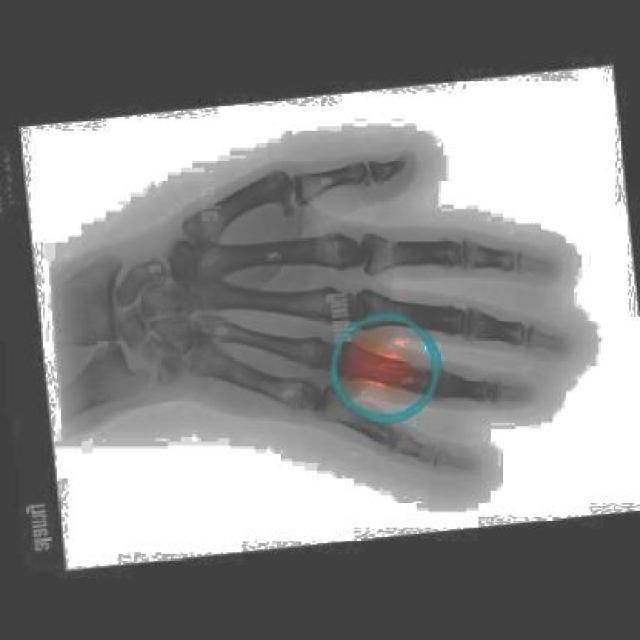Fracture: (363, 348, 416, 394)
